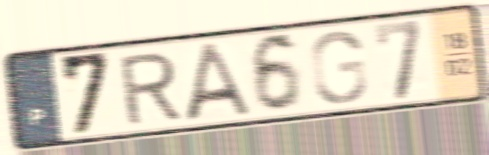6: (247, 30, 307, 119)
7: (56, 50, 113, 139), (371, 16, 425, 104)
A: (183, 39, 253, 125)
G: (308, 28, 369, 107)
R: (116, 48, 184, 128)
